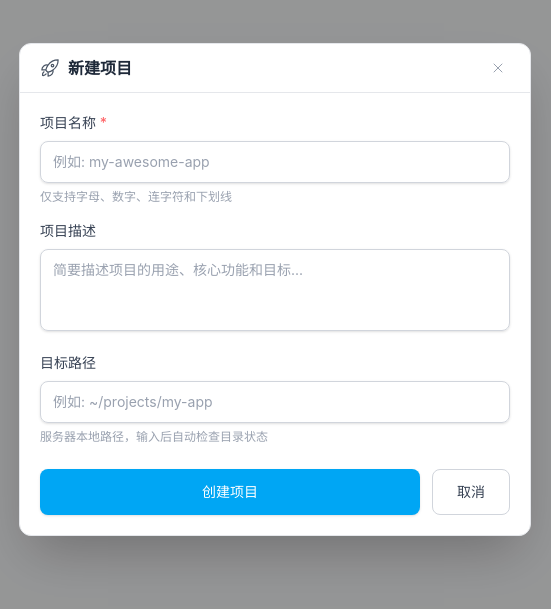
Scenario: ProjectModal › shows error for invalid name characters
The image size is (551, 609).
Type "invalid name!" into the field with placeholder "例如: my-awesome-app" at (275, 162), box [40,140,510,182]
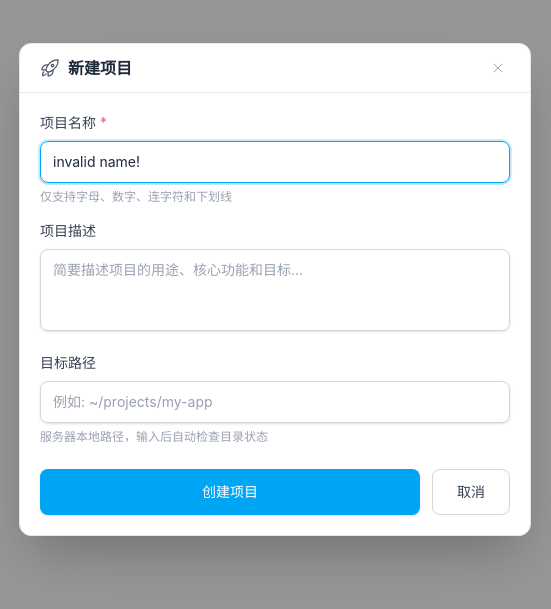
Click the button "创建项目" at (230, 492), box [40,468,420,514]
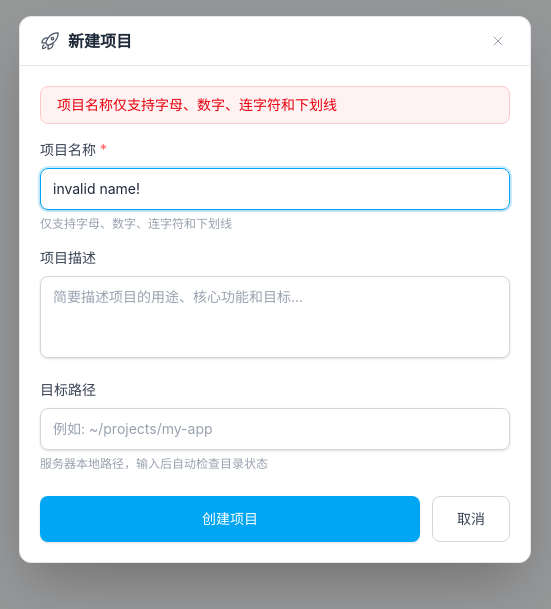
expect the text "项目名称仅支持字母、数字、连字符和下划线" is shown: met, box [40,86,510,124]
